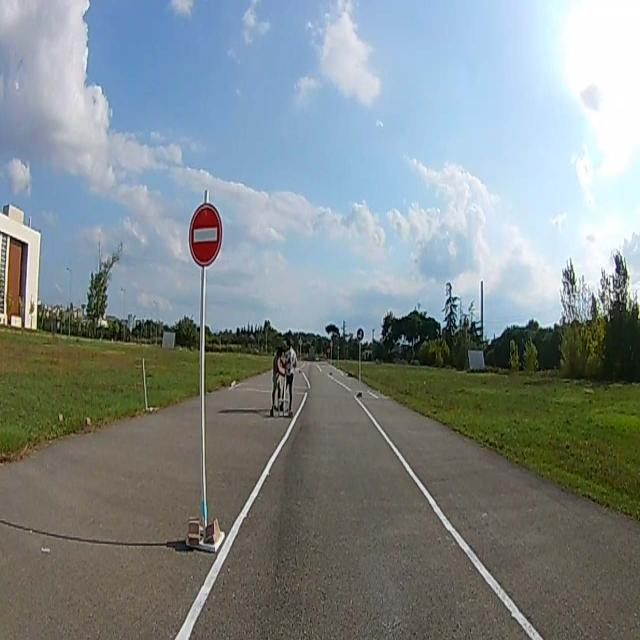girisyok: (189, 204, 221, 264)
